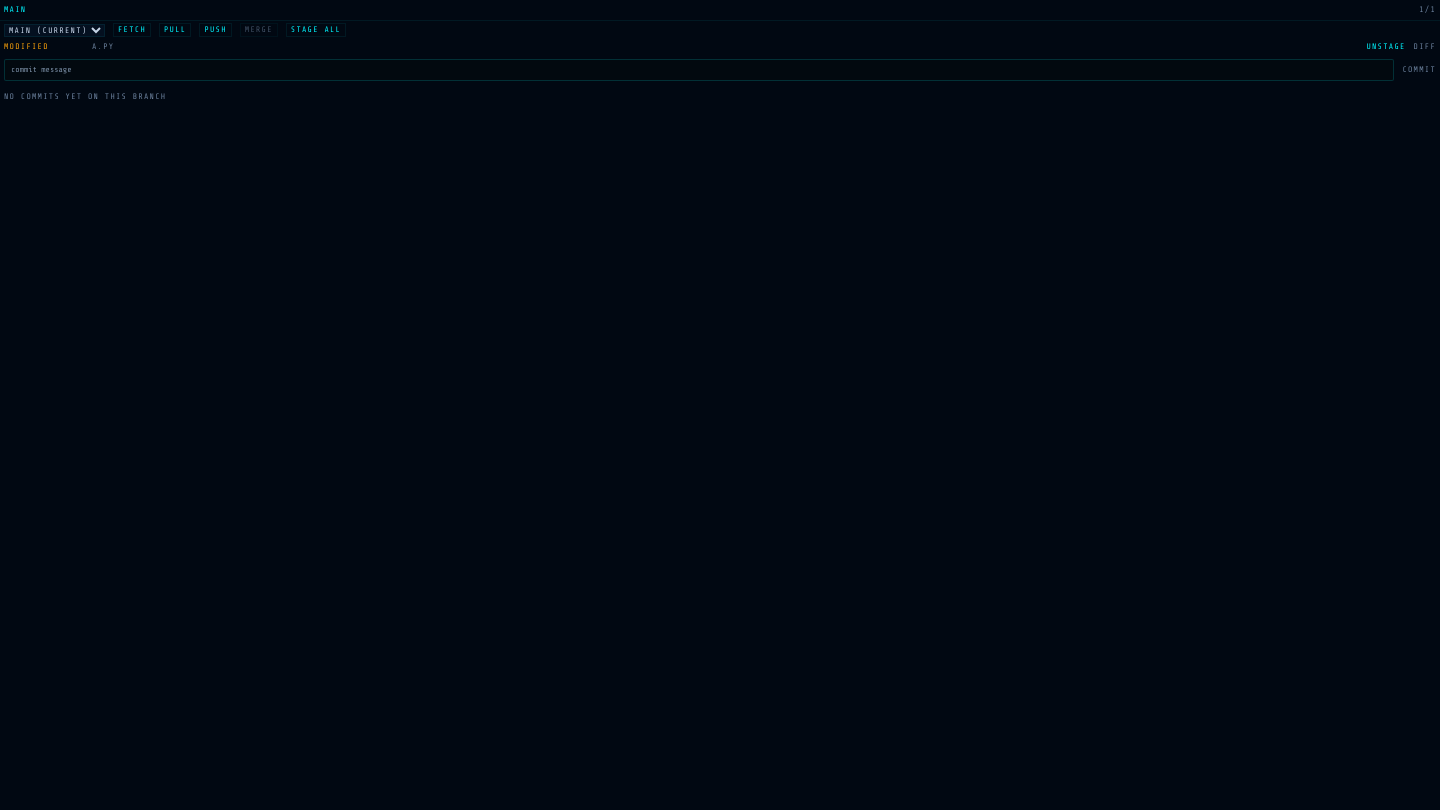
GitPanel › a failed confirm reports the server's reason and parks no token
This screenshot has width=1440, height=810.
Type "wip" into the field labelled "commit message" at (699, 70), box [4, 59, 1394, 81]
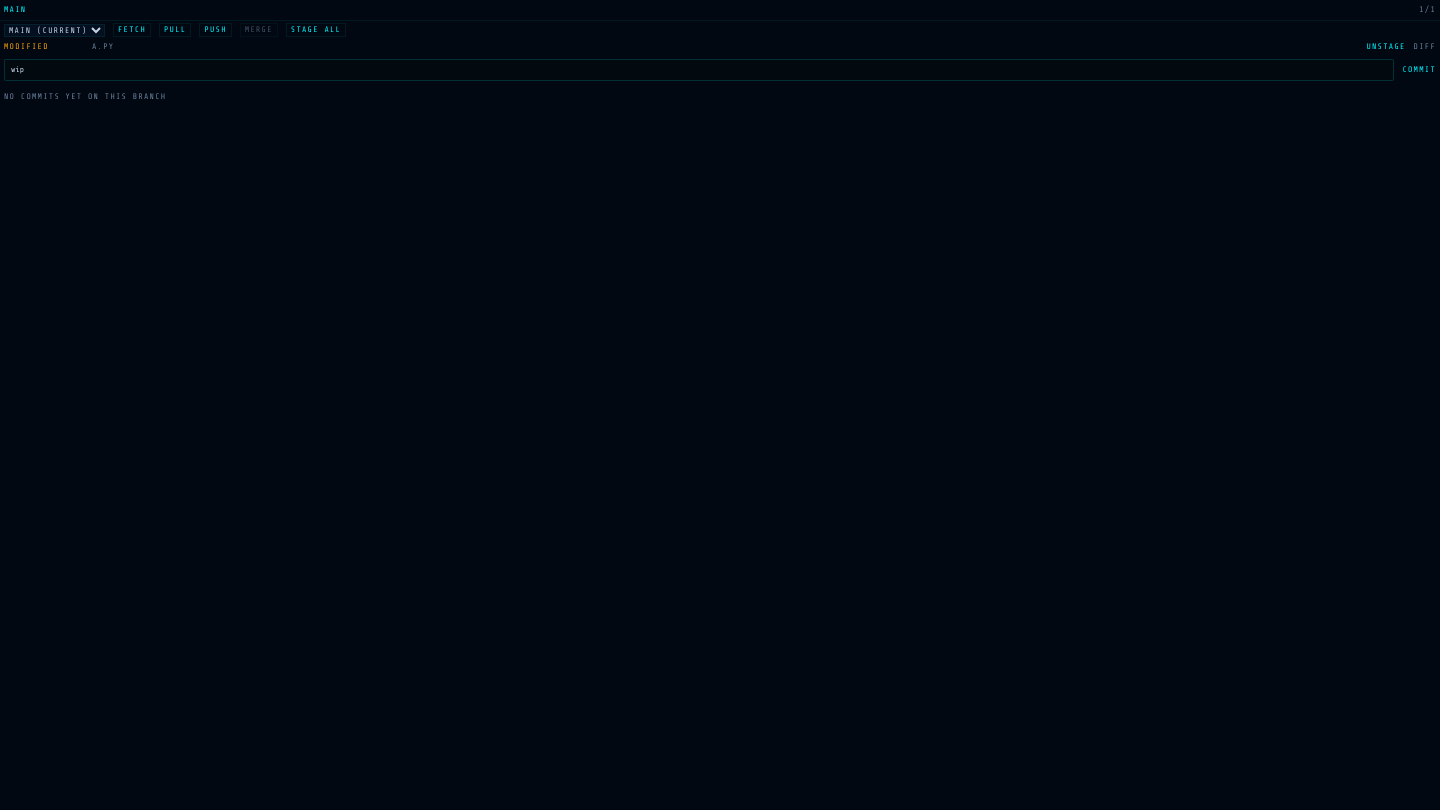
Click the button "Commit" at (1419, 70), box [1402, 64, 1436, 76]
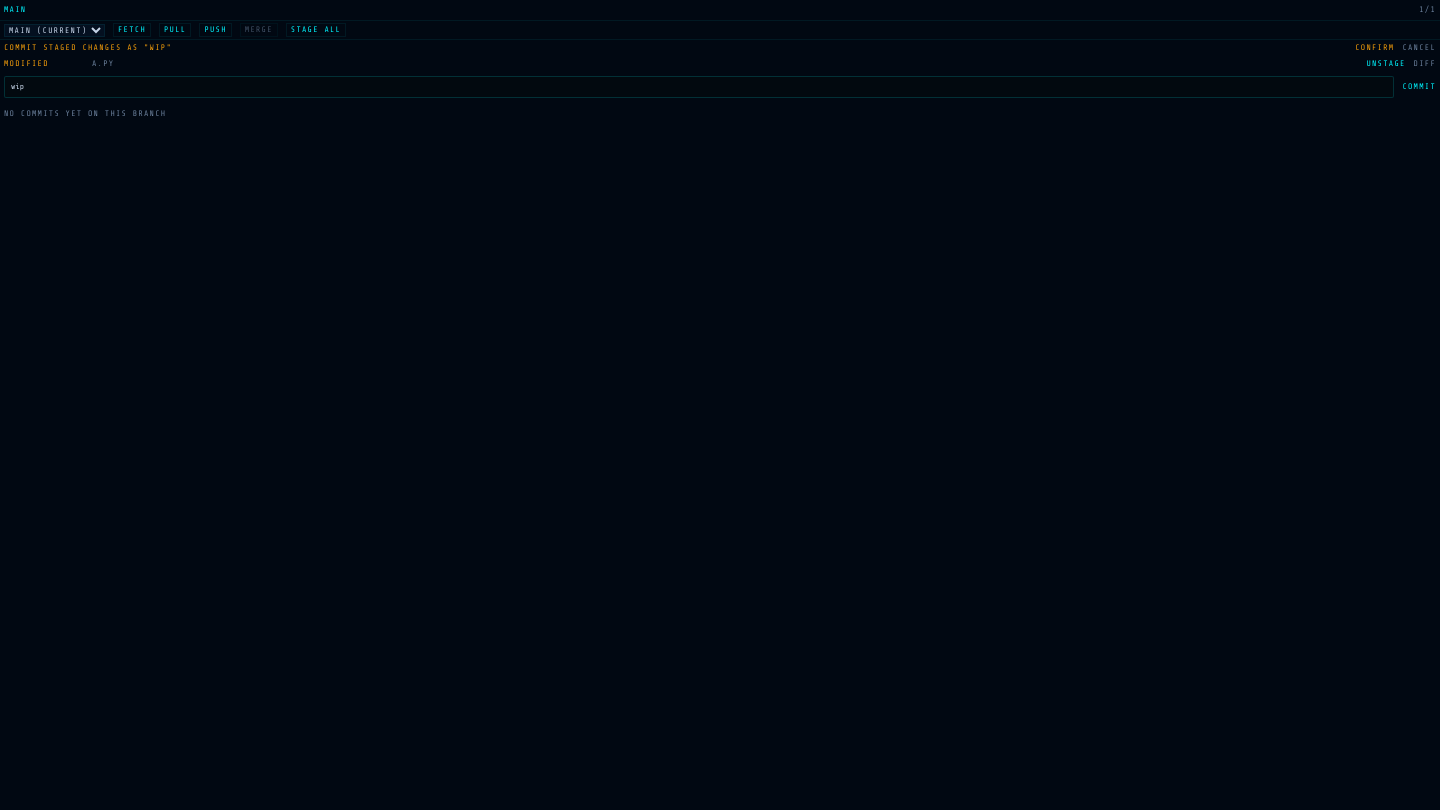
Click the button "CONFIRM" at (1375, 48), box [1355, 42, 1394, 54]
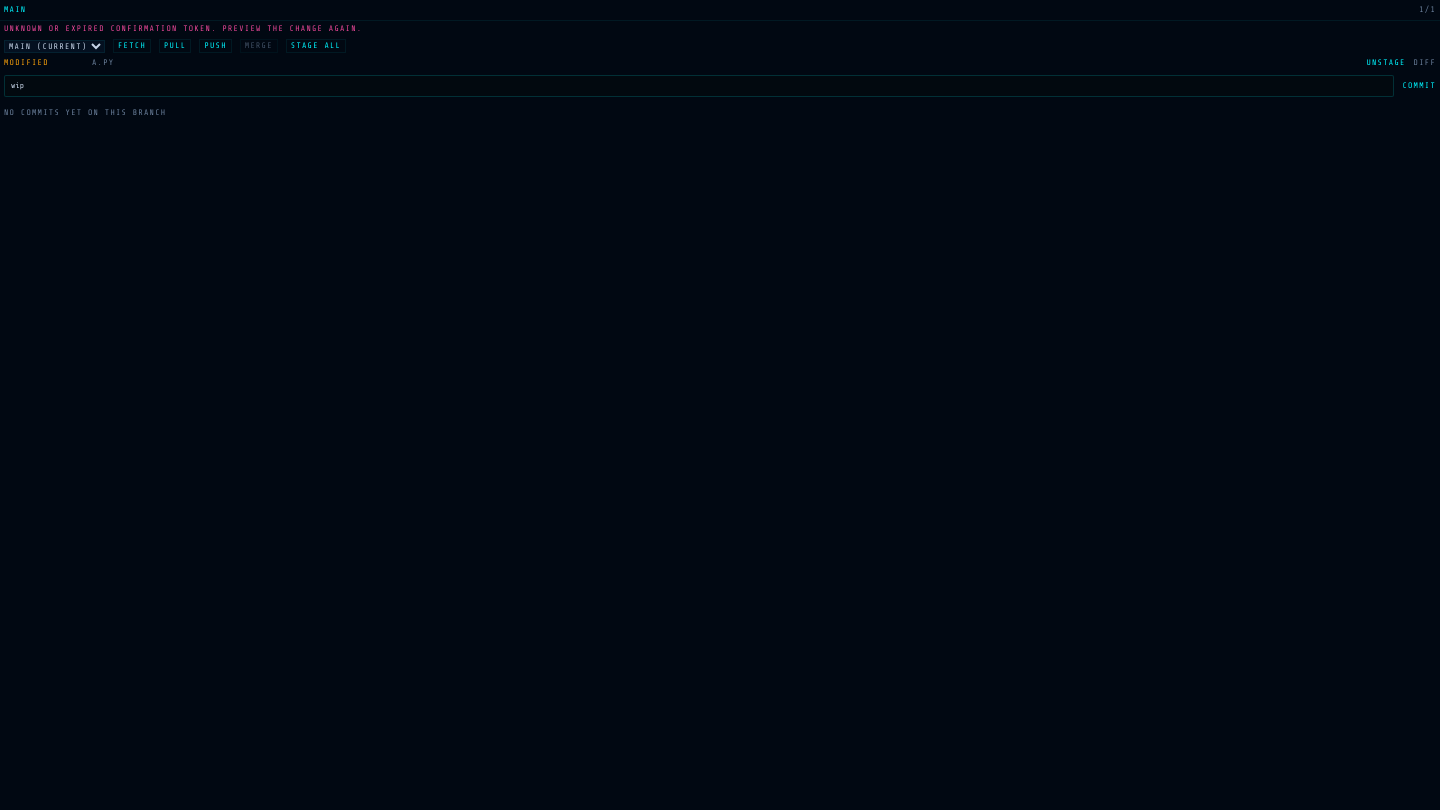
Check: the text "Unknown or expired confirmation token. Preview the change again." is shown, box [4, 24, 362, 33]
Check: the dialog is gone
